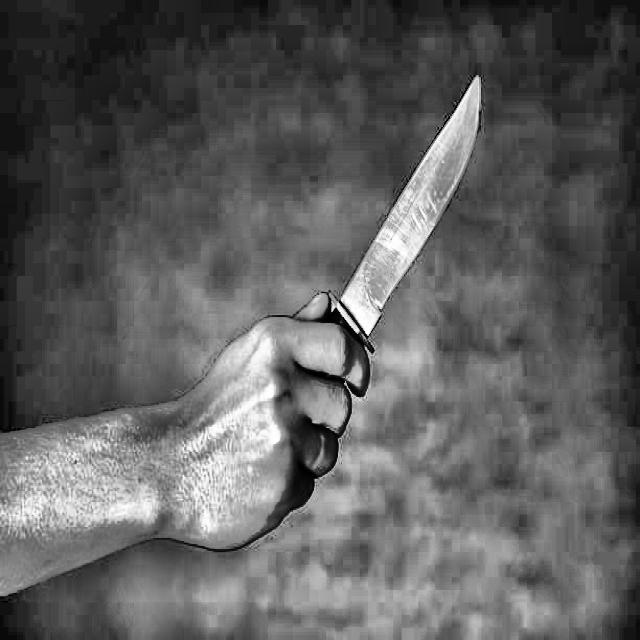pisau: (277, 68, 486, 540)
